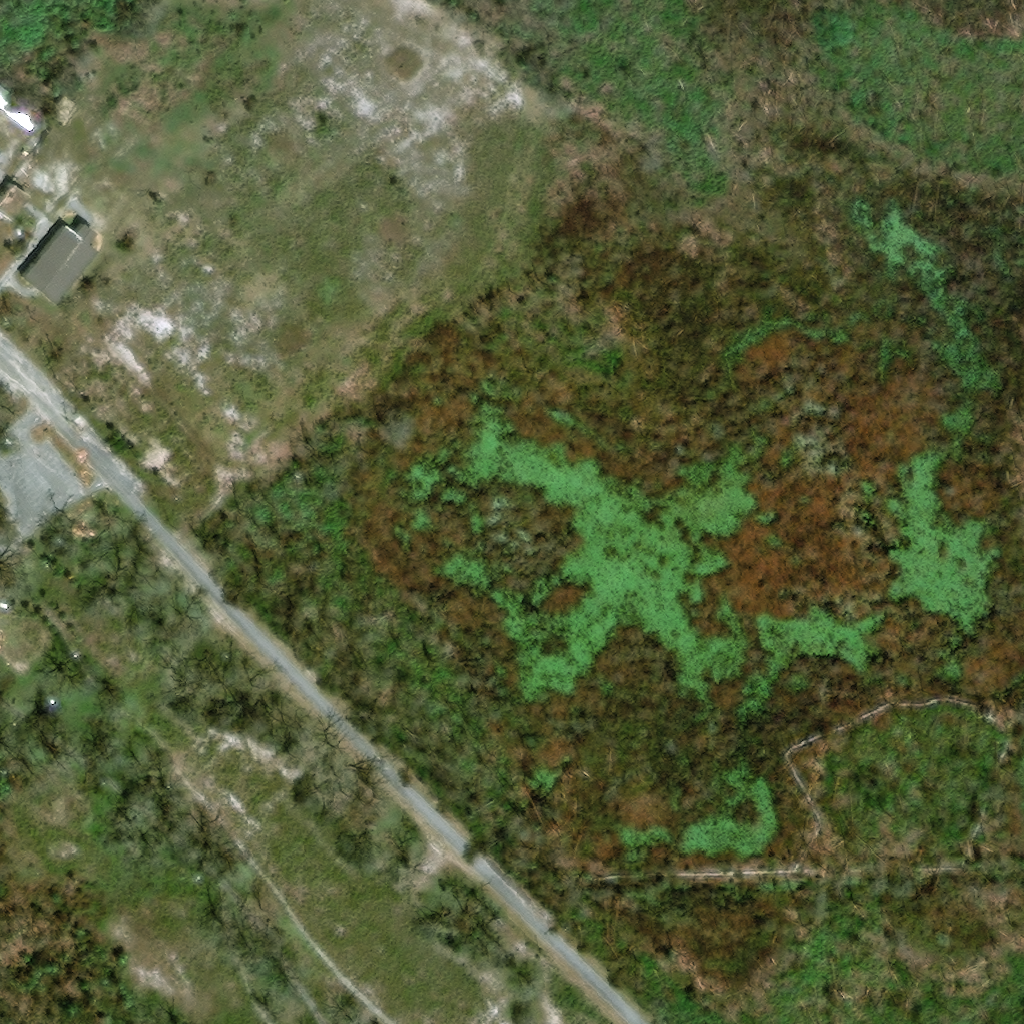destroyed: (56, 96, 90, 131), (83, 415, 104, 436)
no_damage: (27, 222, 111, 308), (0, 85, 47, 131)
unclassified: (0, 207, 14, 233)
